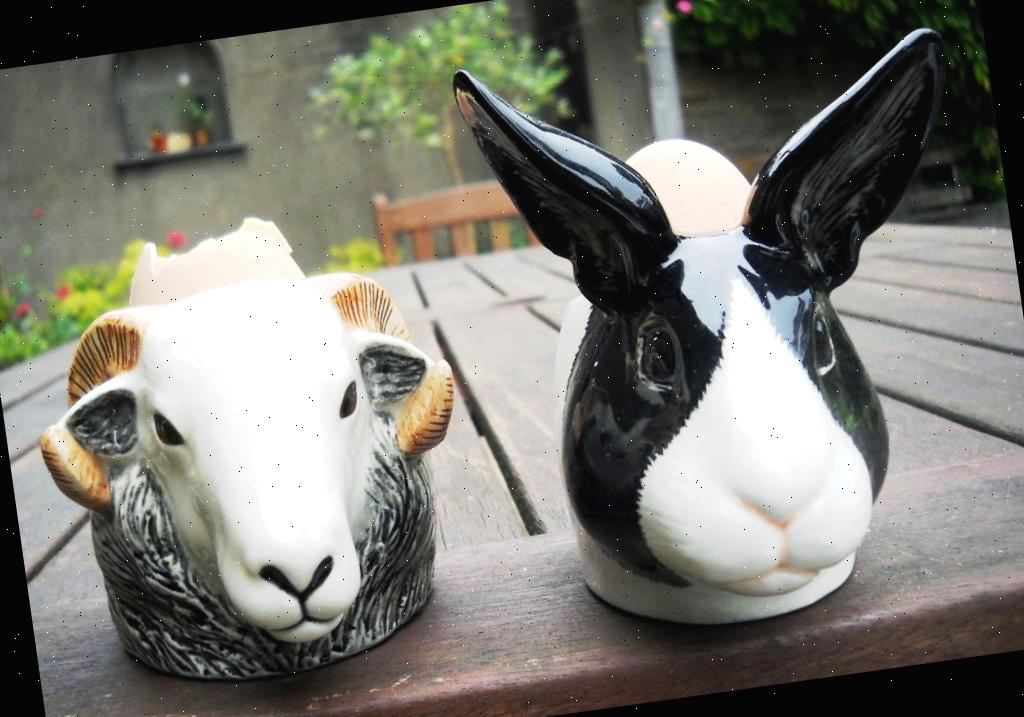Sheep: (20, 252, 491, 701)
